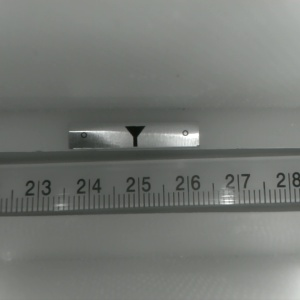2: (23, 180, 34, 196), (174, 175, 184, 191), (275, 172, 285, 188), (225, 174, 235, 189), (125, 177, 135, 192), (91, 178, 101, 193), (76, 178, 85, 194)
3: (40, 180, 51, 195)
5: (141, 176, 150, 192)
6: (190, 175, 200, 191)
7: (240, 174, 250, 188)
8: (291, 171, 300, 187)
finger: (123, 126, 145, 147)
